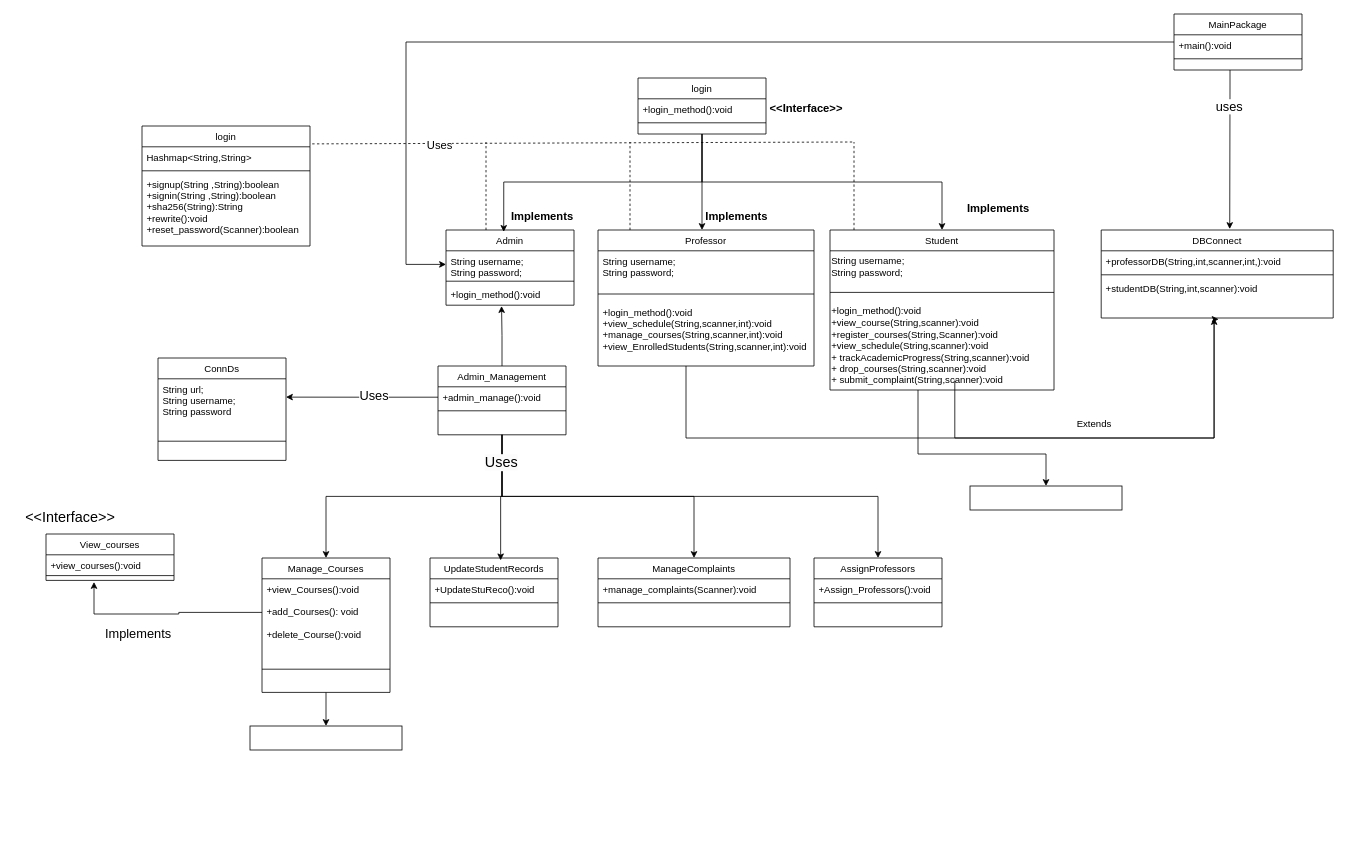
This 1347x866 diagram has some shape labels left out. The shapes that lost their labels are listed below. From the top down, each one's centre as x and y in pixels, then its label:
pixel 1045 497: ExceedCreditLimit Exception
pixel 325 737: InvalidCoursesIDException
